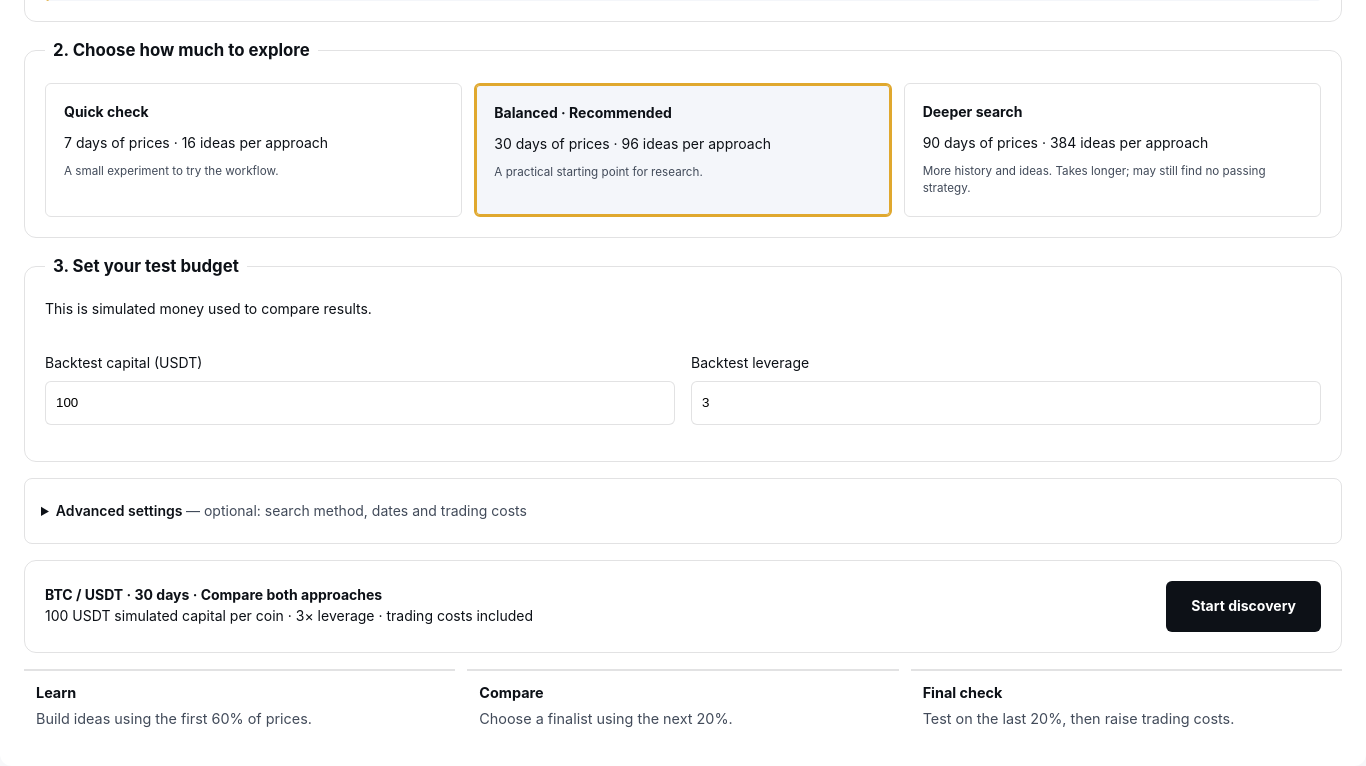
Test: automatically uses CPU without CUDA, and validates an explicit GPU choice
The image size is (1366, 766).
(page scrolled)
Expected: the button "Start discovery" is enabled, 1166,581 -> 1321,632
Click the heading "Advanced settings". click: (291, 510)
box: 56,502 -> 527,519
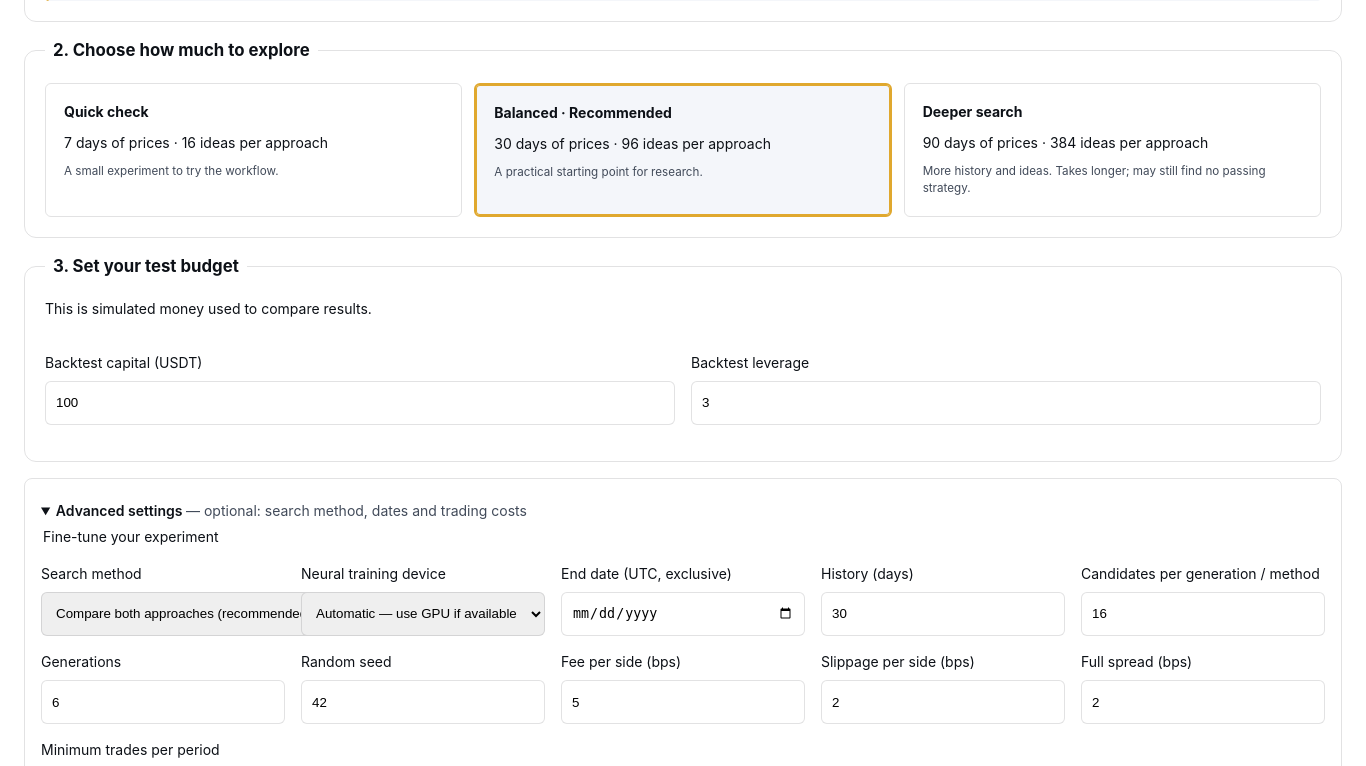
Select "NVIDIA GPU (CUDA)" in the dropdown labelled "Neural training device". click: (423, 614)
box: 301,592 -> 545,636
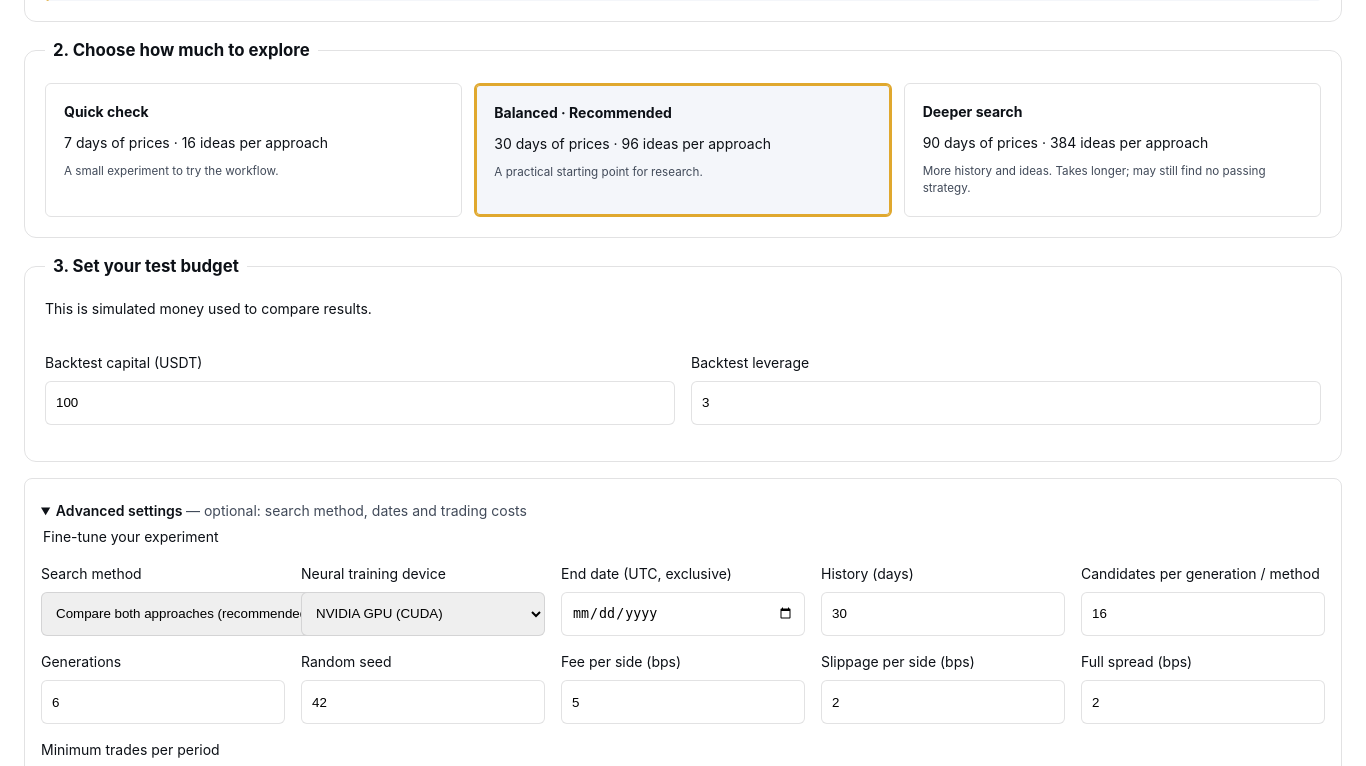
Select "CPU" in the dropdown labelled "Neural training device". click: (423, 614)
box: 301,592 -> 545,636
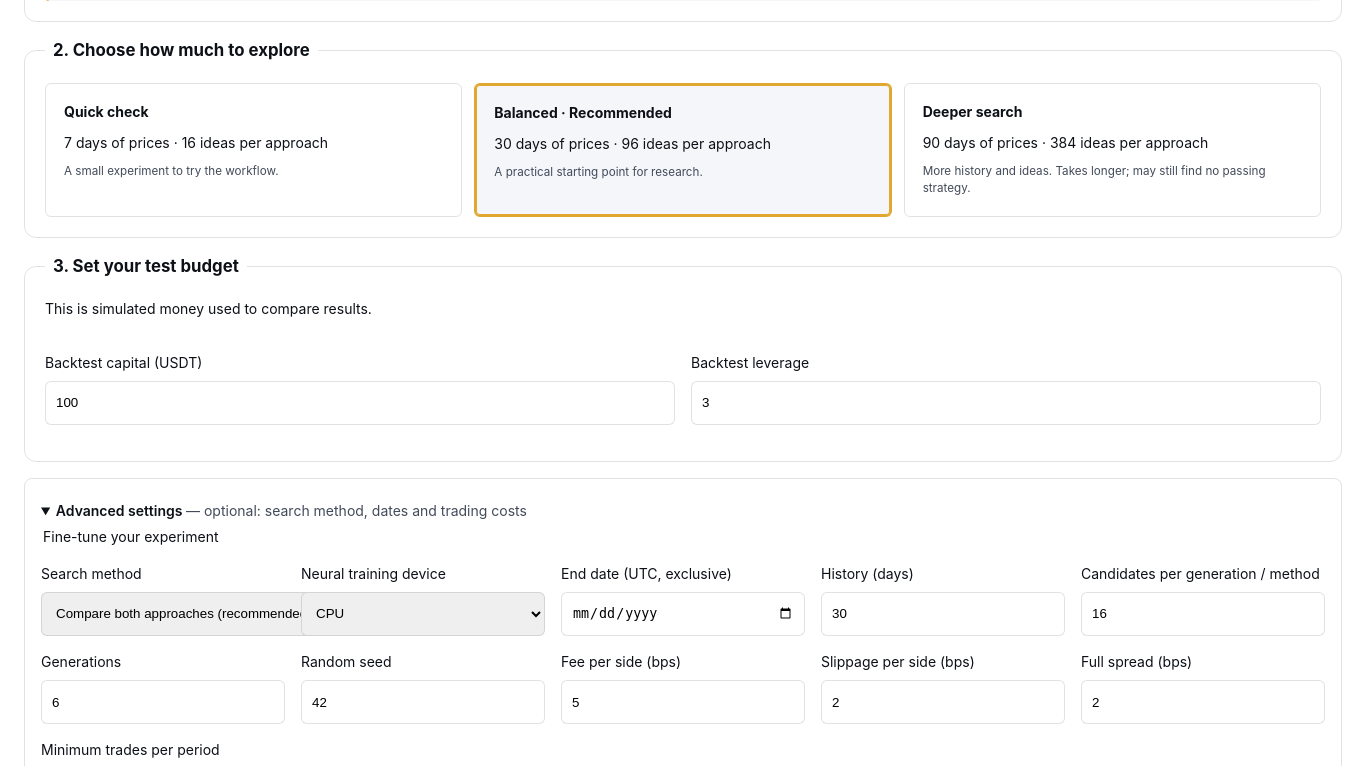
Select "Evolve trading rules (genetic programming)" in the dropdown labelled "Search method". click: (190, 614)
box: 41,592 -> 339,636
(page scrolled)
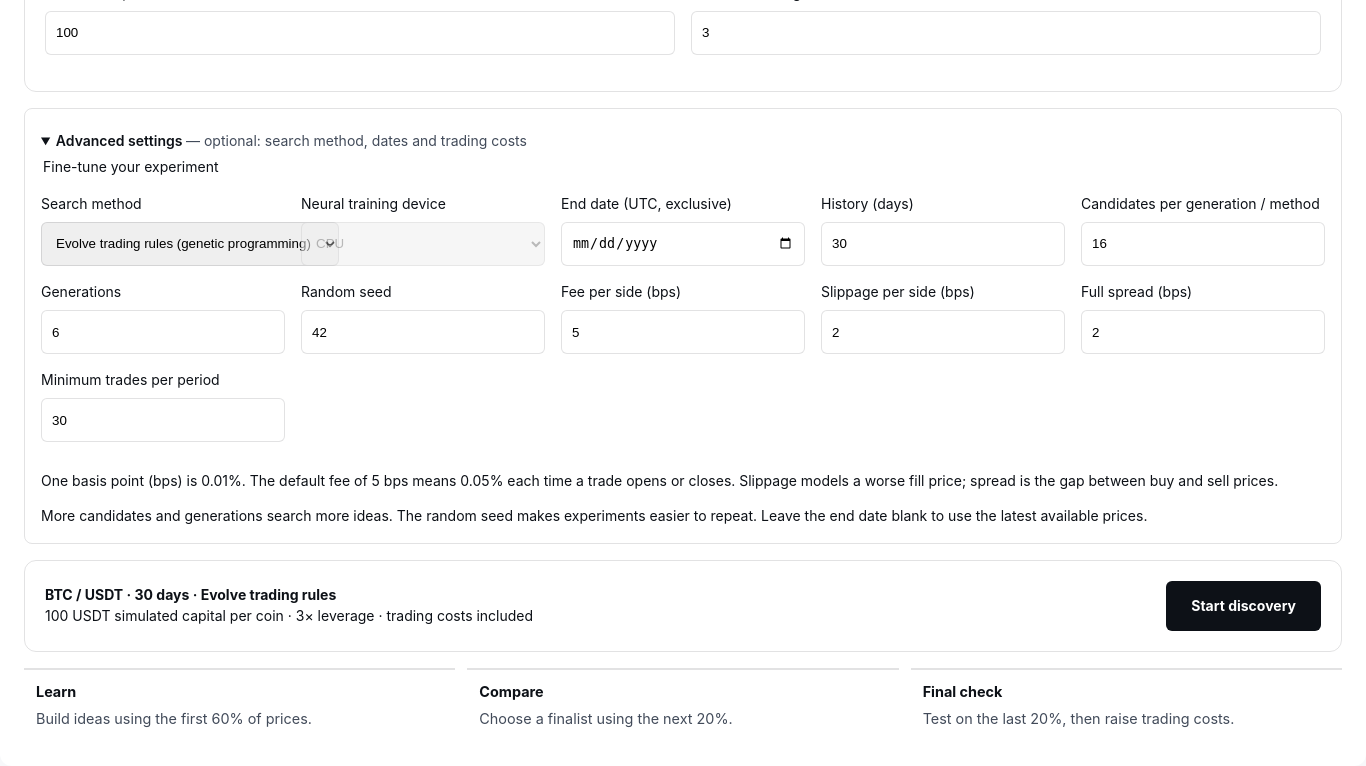
Result: the button "Start discovery" is enabled at 1166,581 -> 1321,632
Result: the dropdown labelled "Neural training device" is disabled at 301,222 -> 545,266
